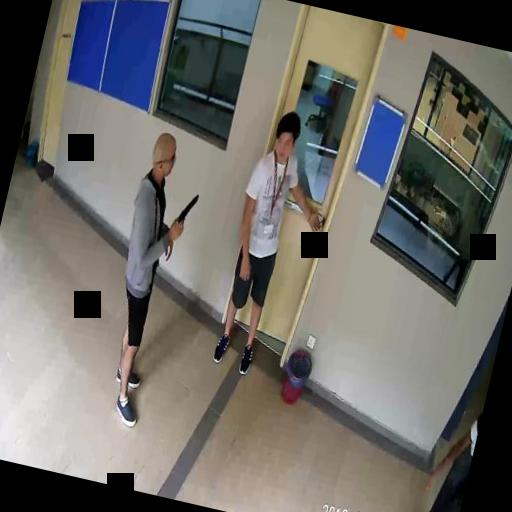Handgun: (172, 190, 198, 234)
